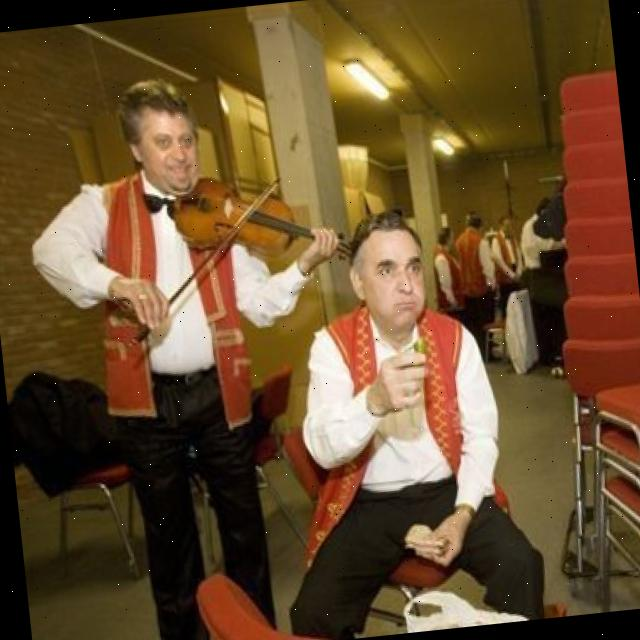violin: (168, 160, 362, 276)
